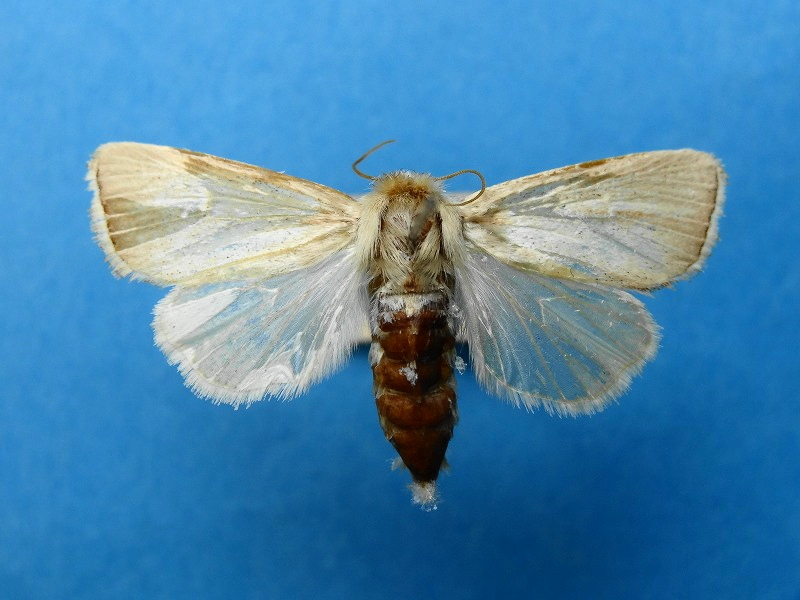Noctuidae: (76, 136, 730, 514)
